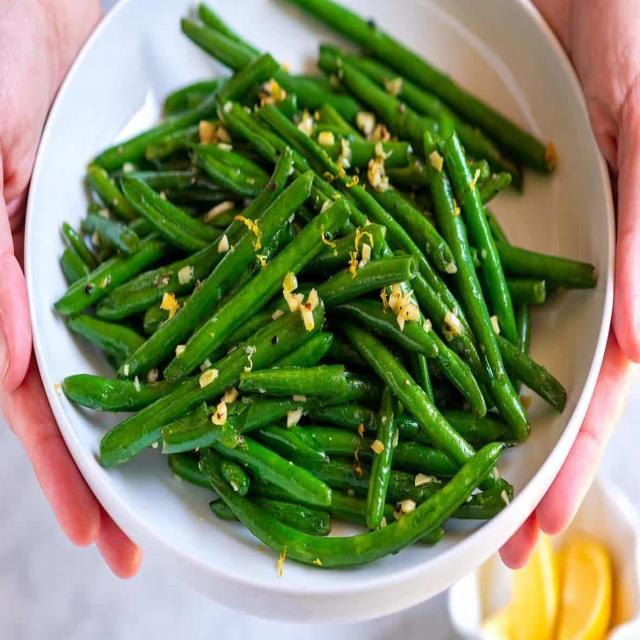Beans: (42, 0, 581, 580)
